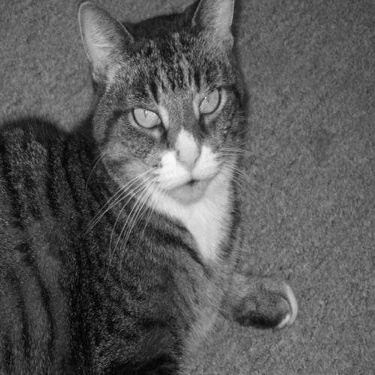cat: (1, 1, 303, 369)
